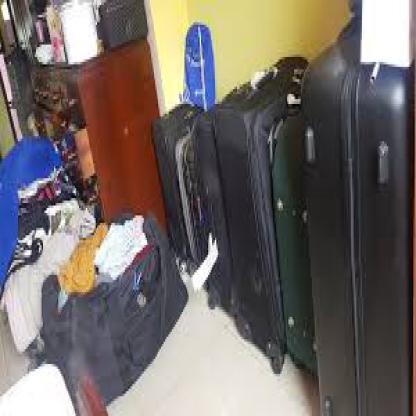maleta: (301, 23, 415, 414), (212, 54, 323, 384), (272, 52, 337, 379), (151, 90, 234, 324)
